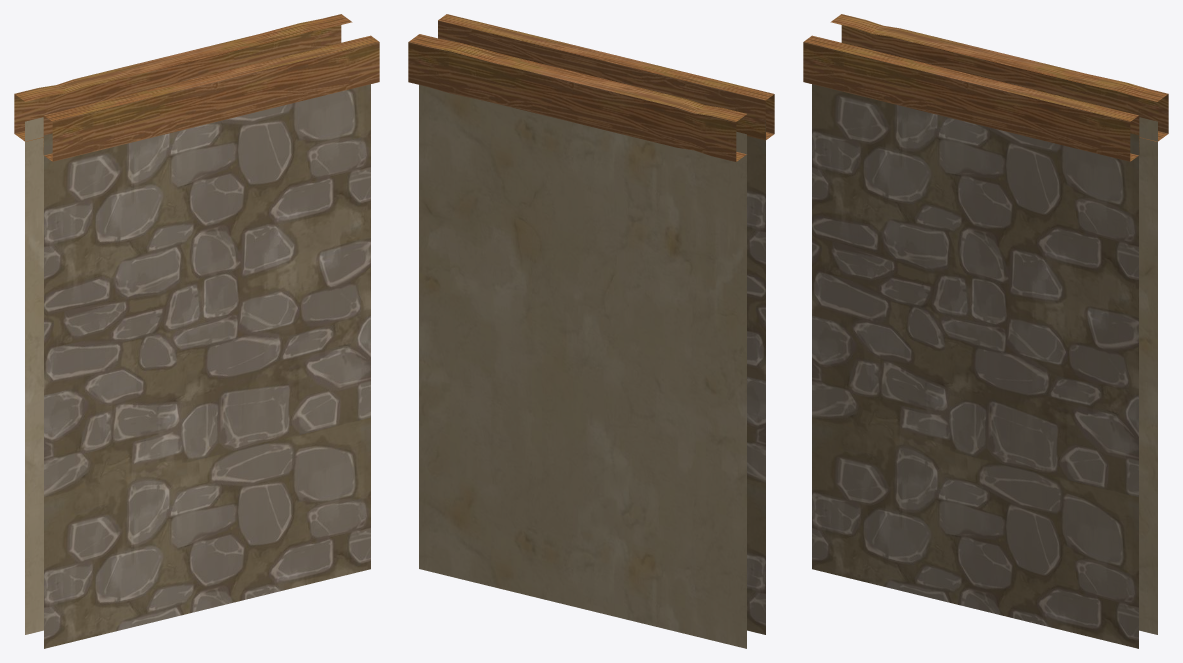
File: wall.glb
3 views of the same model, side by side, from view 1: azimuth 30°, elevation 25°; view 2: azimuth 150°, elevation 25°; view 3: azimuth 330°, elevation 25° (orthographic).
Parts seen in each view (by area): view 1: Wall_UnevenBrick_Straight; view 2: Wall_UnevenBrick_Straight; view 3: Wall_UnevenBrick_Straight.
Part boxes in pixels (<box>): Wall_UnevenBrick_Straight: <box>14,14,379,648</box>; Wall_UnevenBrick_Straight: <box>408,14,774,648</box>; Wall_UnevenBrick_Straight: <box>803,14,1168,648</box>.
Size of the model in its own units: 2 by 3.12 by 0.4065.
3 materials, 3 textured.
